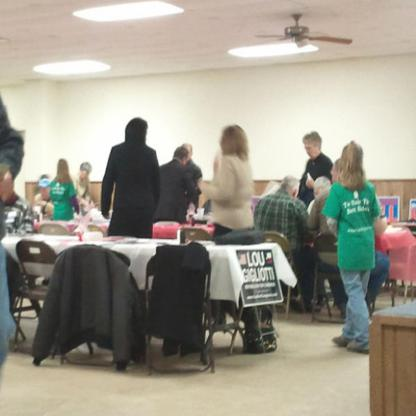face: (315, 183, 328, 201), (306, 143, 320, 159), (41, 183, 50, 199), (184, 148, 192, 162), (81, 167, 89, 179)
